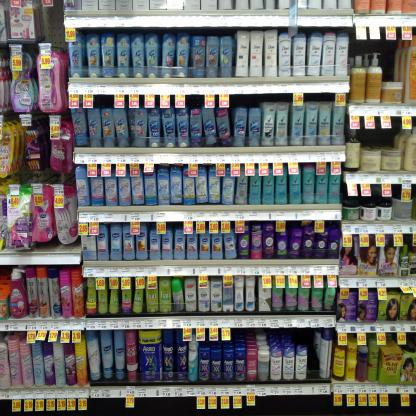Void: (305, 329, 322, 379), (383, 40, 402, 75), (365, 130, 401, 144)
